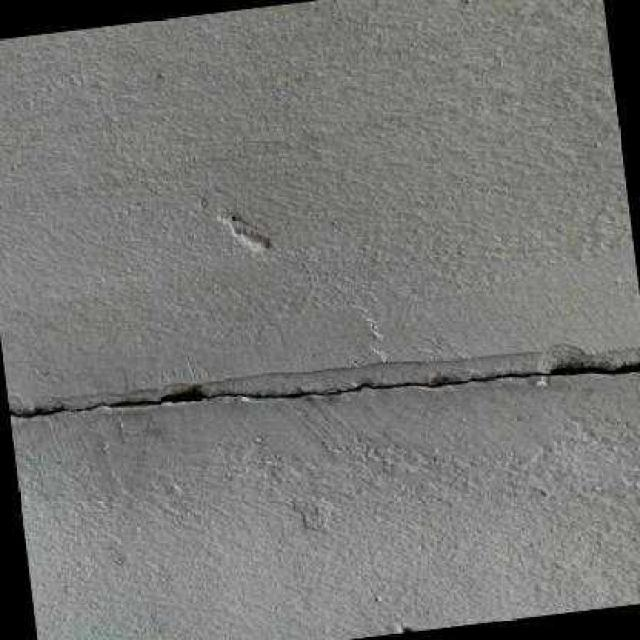D00: (8, 361, 640, 419)
